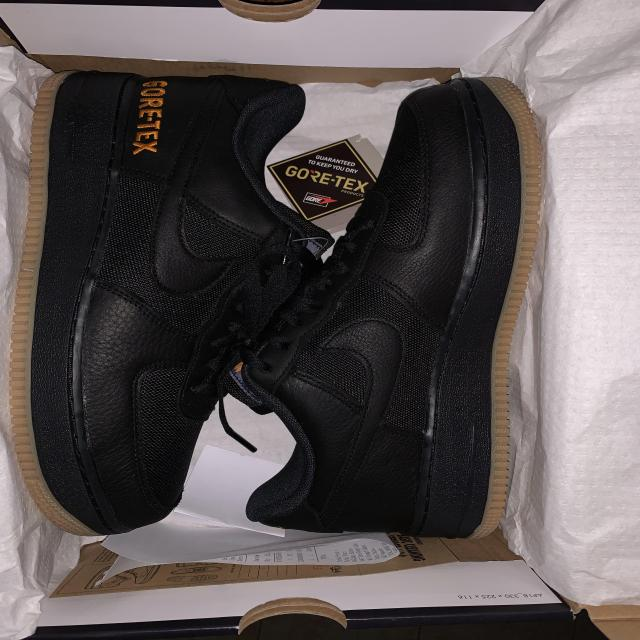shoe: (261, 57, 606, 556), (15, 52, 335, 560)
